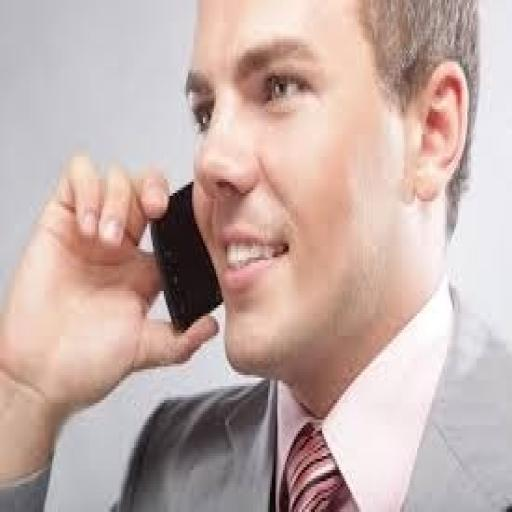calling: (0, 0, 508, 509)
